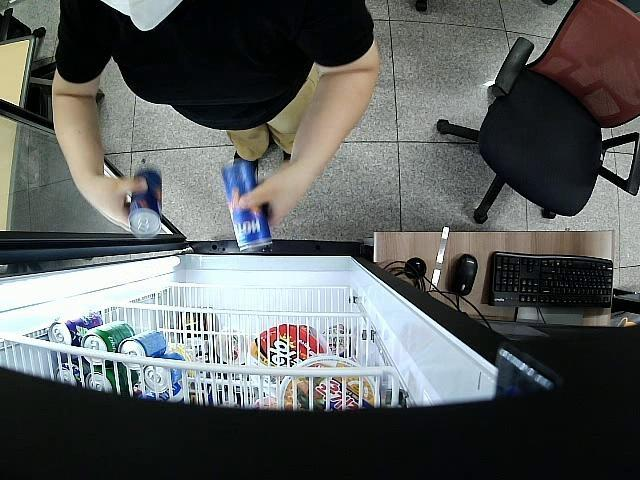16_hot6: (220, 162, 274, 253), (124, 166, 164, 239)
